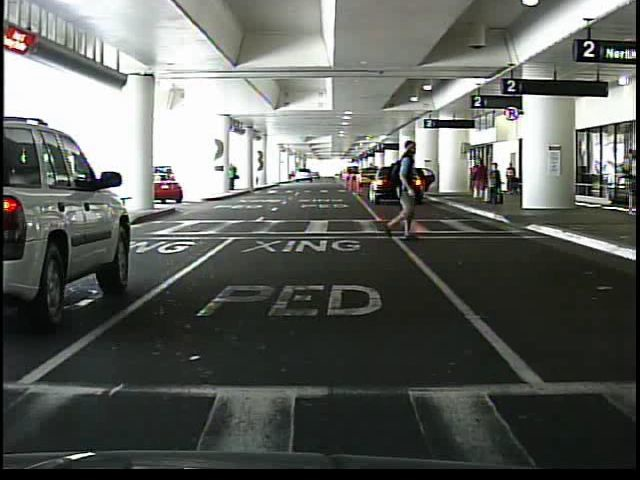person: (374, 139, 430, 241), (467, 159, 490, 203), (622, 149, 636, 214), (490, 162, 504, 205), (506, 162, 516, 192), (230, 164, 239, 193)
